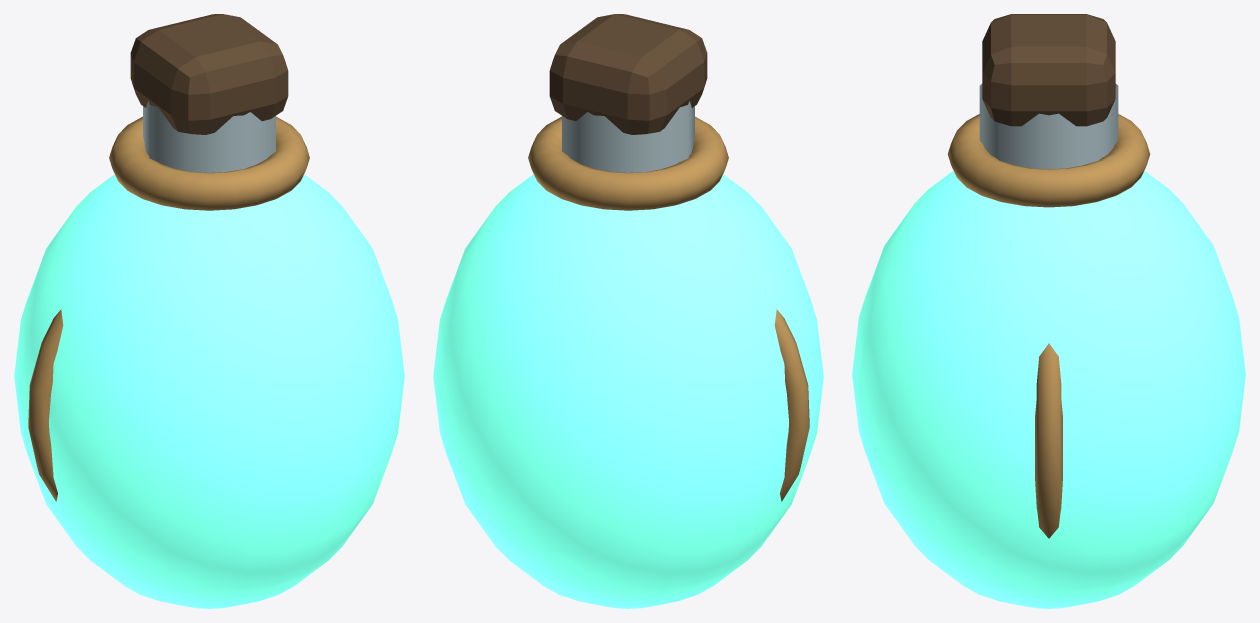
File: HealingPotion.fbx
3 renders of one model, left to right at view 1: azimuth 30°, elevation 25°; view 2: azimuth 150°, elevation 25°; view 3: azimuth 270°, elevation 25°, orthographic.
Parts seen in each view (by area): view 1: Rounded flask_export, Cork_export, Bottle collar_export, Bottle neck_export, Filigree cage_export; view 2: Rounded flask_export, Cork_export, Bottle collar_export, Bottle neck_export, Filigree cage_export; view 3: Rounded flask_export, Cork_export, Bottle collar_export, Bottle neck_export, Filigree cage.001_export.
Boxes of the visible parts, x1,y1,x2,y2 form: Rounded flask_export: [14, 174, 404, 608]; Cork_export: [130, 14, 288, 134]; Bottle collar_export: [109, 116, 309, 210]; Bottle neck_export: [143, 101, 275, 172]; Filigree cage_export: [28, 309, 63, 501]; Rounded flask_export: [433, 174, 823, 608]; Cork_export: [549, 14, 707, 134]; Bottle collar_export: [528, 116, 728, 210]; Bottle neck_export: [562, 101, 694, 172]; Filigree cage_export: [774, 309, 809, 501]; Rounded flask_export: [852, 171, 1245, 608]; Cork_export: [982, 14, 1115, 126]; Bottle collar_export: [947, 114, 1150, 207]; Bottle neck_export: [979, 83, 1118, 169]; Filigree cage.001_export: [1035, 343, 1062, 538].
Size of the model in its own units: 72.35 by 108 by 68.
